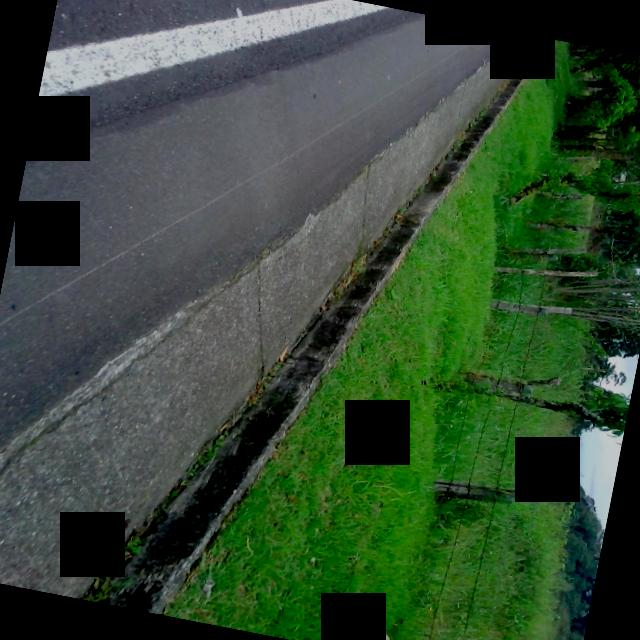DITCH: (0, 0, 585, 640), (0, 0, 570, 640), (0, 0, 541, 640)
